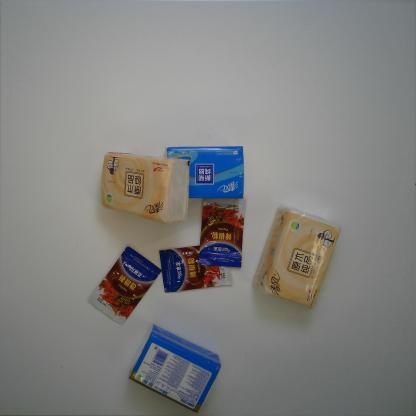Seasoner: (86, 244, 162, 326), (158, 245, 233, 294), (198, 198, 247, 268)
Tissue: (251, 205, 342, 311), (128, 324, 223, 414), (100, 151, 191, 225), (164, 145, 245, 200)
